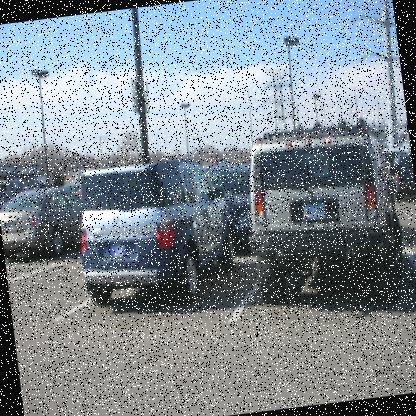Car: (70, 154, 244, 318), (0, 181, 89, 266), (192, 158, 262, 256), (388, 153, 416, 202), (380, 144, 410, 170), (64, 181, 78, 197)
